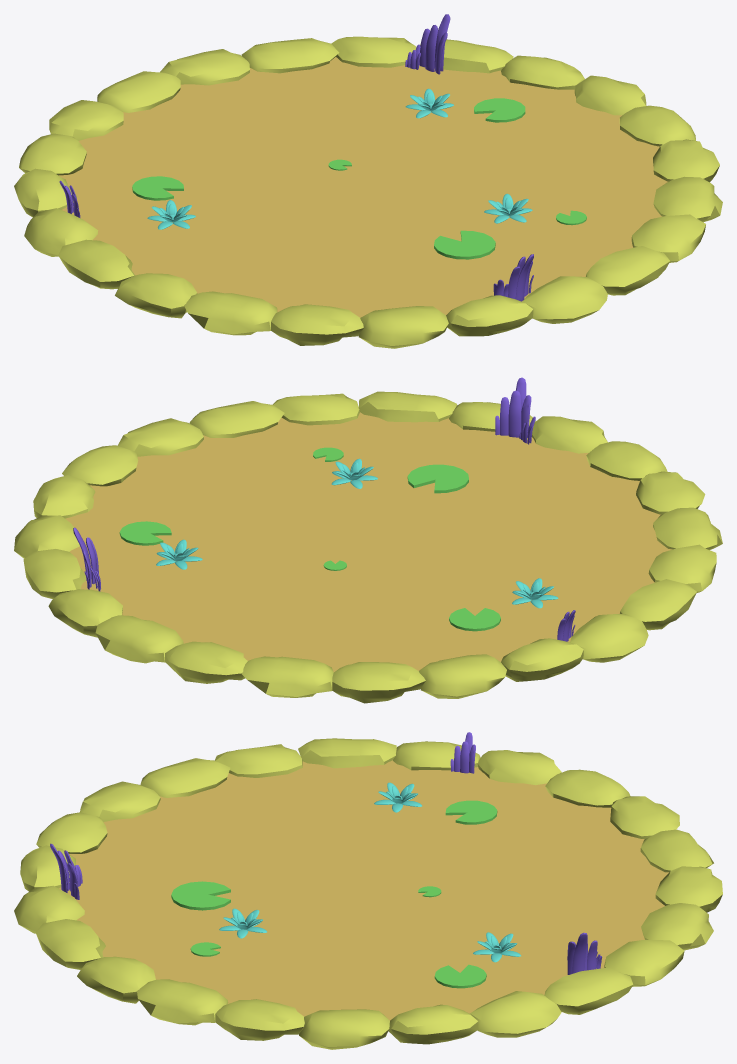
Rendered from pond.glb.
3 views of the same model, one above another, from view 1: azimuth 30°, elevation 25°; view 2: azimuth 150°, elevation 25°; view 3: azimuth 270°, elevation 25° (orthographic).
Visible parts, largest first — view 1: Pond; view 2: Pond; view 3: Pond.
Boxes of the visible parts, <box> form: Pond: <box>14,14,722,348</box>; Pond: <box>14,377,722,703</box>; Pond: <box>14,732,722,1049</box>.
Bounding box in the file's own units: 4385 × 454 × 4407.
